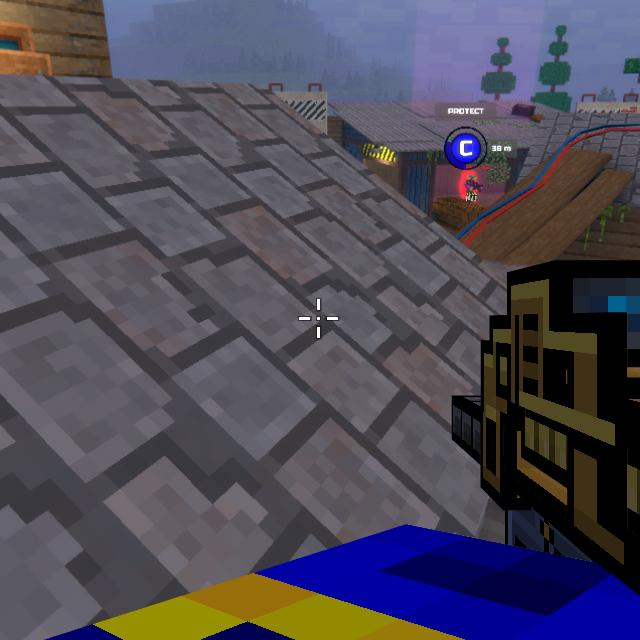Enemy: (462, 175, 481, 201)
